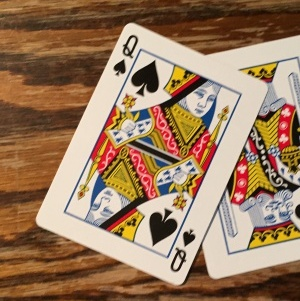card: (35, 21, 265, 280)
